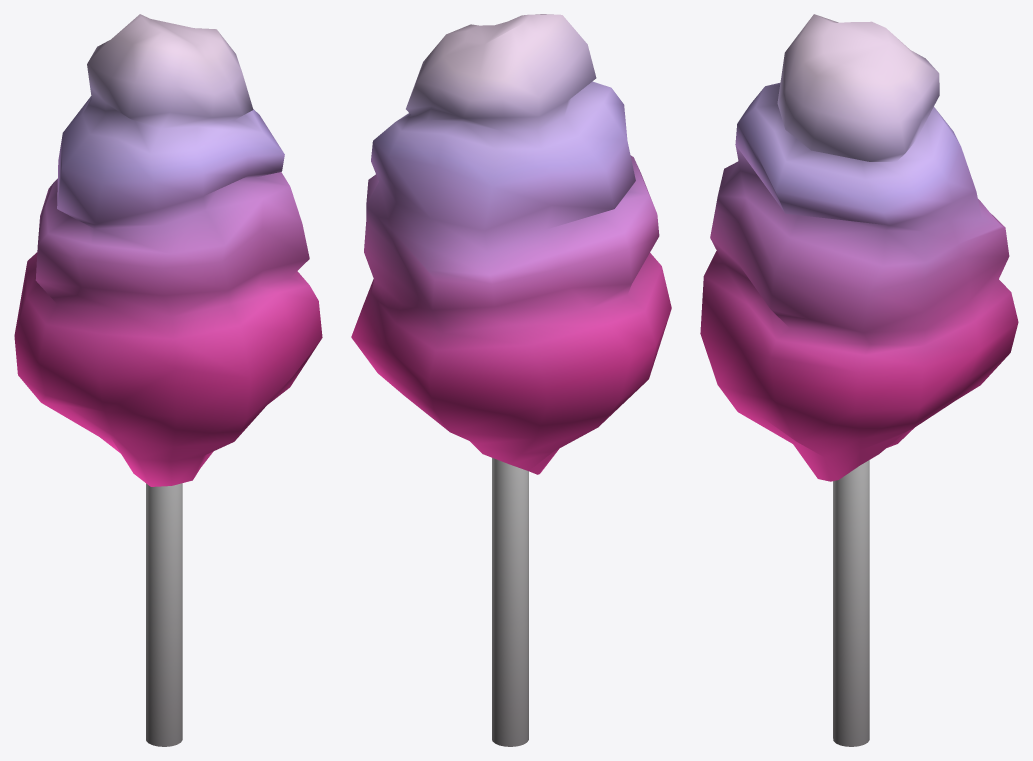
Rendered from Cotton_Candy_Tree_01.fbx.
The picture shows the model from 3 angles, left to right: view 1: azimuth 30°, elevation 25°; view 2: azimuth 150°, elevation 25°; view 3: azimuth 270°, elevation 25°; orthographic projection.
Visible parts, largest first — view 1: Cotton_Candy_Tree_01; view 2: Cotton_Candy_Tree_01; view 3: Cotton_Candy_Tree_01.
Part boxes in pixels (x1,y1,x2,y2): Cotton_Candy_Tree_01: (14,14,322,746); Cotton_Candy_Tree_01: (351,14,671,746); Cotton_Candy_Tree_01: (700,14,1018,746).
Bounding box in the file's own units: 242 × 619 × 251.
